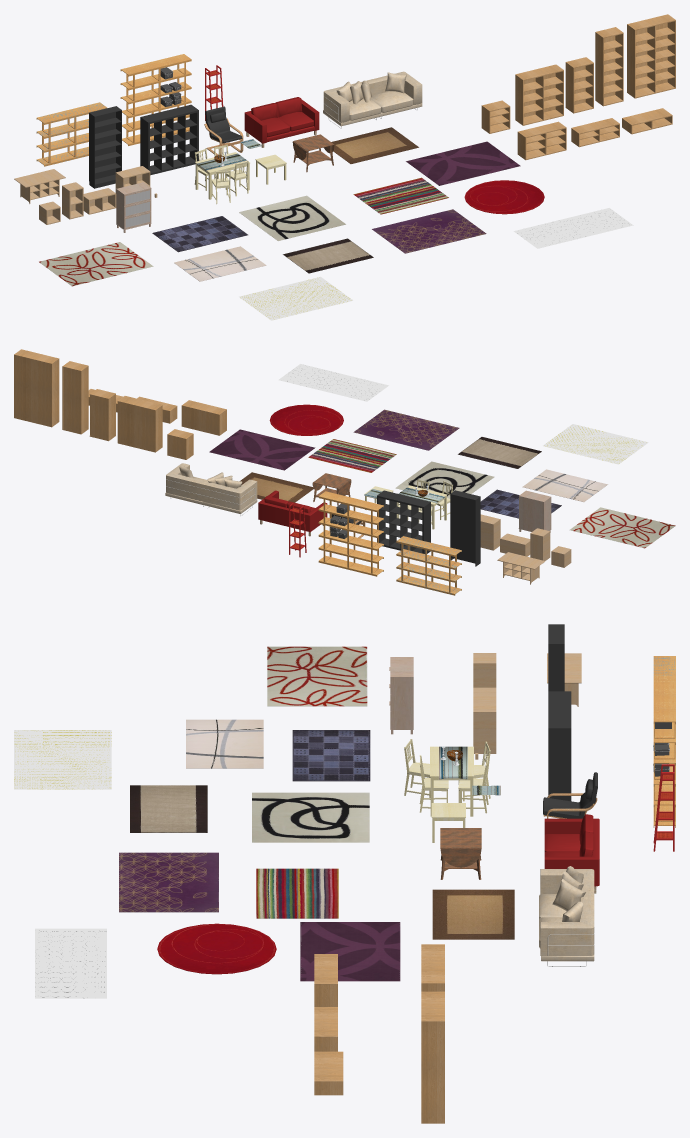
The picture shows the model from 3 angles, top to bottom: view 1: azimuth 30°, elevation 25°; view 2: azimuth 150°, elevation 25°; view 3: azimuth 270°, elevation 25°; orthographic projection. The views are drawn at different scales.
Visible parts, largest first — view 1: SketchUp (×2), rug_andrea, rug_andrea_cirkel, rug_hedda, rug-hedda, rug_ikea_ps, zrug-strib, rug_dragor, rug_vium, rug_vinde, rug_karby, norrebo_shelf_horiz_slats (×3) (+12 smaller); view 2: norrebo_shelf_horiz_slats (×10), SketchUp (×2), group_16, rug_andrea, rug_andrea_cirkel, rug_hedda, karlstad_loveseat_half_1 (×2), rug_ikea_ps, rug-hedda, zrug-strib, billy_shelf_back, group_13 (+14 smaller); view 3: SketchUp (×2), rug_hedda, rug_andrea_cirkel, rug-hedda, rug_andrea, rug_ikea_ps, zrug-strib, rug_dragor, rug_vium, rug_vinde, rug_karby, karlstad_loveseat_half_1 (×2) (+14 smaller).
Part boxes in pixels (x1=…): SketchUp (×2): x1=239, y1=208, x2=633, y2=320; rug_andrea: x1=406, y1=141, x2=520, y2=185; rug_andrea_cirkel: x1=372, y1=209, x2=486, y2=253; rug_hedda: x1=39, y1=242, x2=153, y2=286; rug-hedda: x1=239, y1=195, x2=345, y2=240; rug_ikea_ps: x1=464, y1=180, x2=544, y2=214; zrug-strib: x1=353, y1=177, x2=448, y2=214; rug_dragor: x1=331, y1=127, x2=418, y2=163; rug_vium: x1=152, y1=216, x2=247, y2=252; rug_vinde: x1=174, y1=246, x2=266, y2=281; rug_karby: x1=283, y1=238, x2=373, y2=273; norrebo_shelf_horiz_slats (×3): x1=37, y1=54, x2=191, y2=124; norrebo_shelf_horiz_slats (×10): x1=318, y1=491, x2=461, y2=595; SketchUp (×2): x1=278, y1=364, x2=648, y2=464; group_16: x1=14, y1=355, x2=51, y2=426; rug_andrea: x1=209, y1=429, x2=315, y2=470; rug_andrea_cirkel: x1=353, y1=409, x2=459, y2=450; rug_hedda: x1=570, y1=507, x2=675, y2=548; karlstad_loveseat_half_1 (×2): x1=166, y1=463, x2=257, y2=510; rug_ikea_ps: x1=269, y1=404, x2=343, y2=435; rug-hedda: x1=395, y1=461, x2=494, y2=498; zrug-strib: x1=308, y1=439, x2=396, y2=472; billy_shelf_back: x1=450, y1=494, x2=474, y2=563; group_13: x1=118, y1=402, x2=154, y2=451; SketchUp (×2): x1=14, y1=730, x2=111, y2=998; rug_hedda: x1=267, y1=646, x2=367, y2=706; rug_andrea_cirkel: x1=119, y1=852, x2=218, y2=912; rug-hedda: x1=252, y1=792, x2=369, y2=842; rug_andrea: x1=300, y1=922, x2=400, y2=981; rug_ikea_ps: x1=157, y1=923, x2=276, y2=974; zrug-strib: x1=256, y1=868, x2=338, y2=918; rug_dragor: x1=432, y1=889, x2=514, y2=939; rug_vium: x1=292, y1=730, x2=370, y2=781; rug_vinde: x1=186, y1=719, x2=263, y2=768; rug_karby: x1=130, y1=785, x2=207, y2=832; karlstad_loveseat_half_1 (×2): x1=540, y1=869, x2=594, y2=955.
Size of the model in its own units: 756 by 443 by 80.
36 materials, 28 textured.
